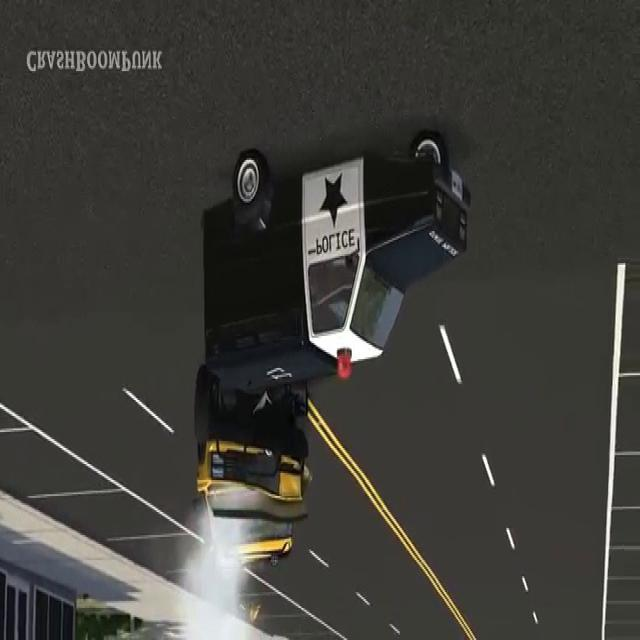severe: (190, 128, 468, 585)
